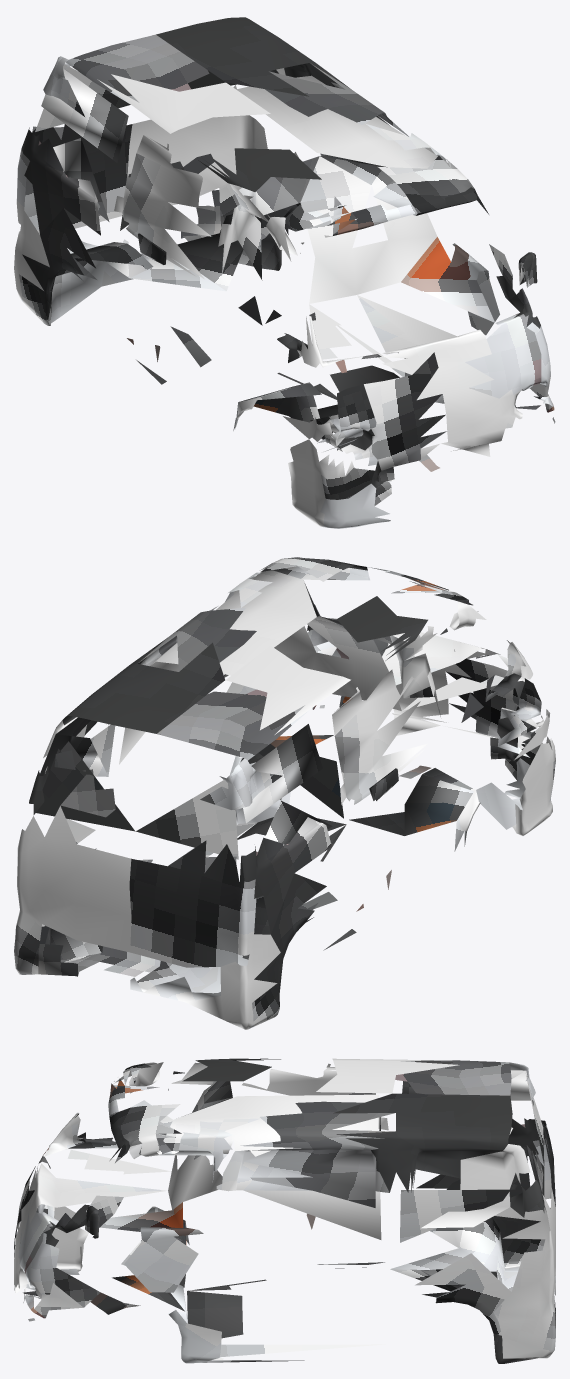
File: cycas_pixel_van.obj
3 renders of one model, top to bottom at view 1: azimuth 30°, elevation 25°; view 2: azimuth 150°, elevation 25°; view 3: azimuth 270°, elevation 25°, orthographic. The views are drawn at different scales.
Parts seen in each view (by area): view 1: body; view 2: body; view 3: body.
Part boxes in pixels (box(x1,y1,x2,y2)): body: box(14, 17, 555, 528); body: box(14, 557, 555, 1029); body: box(14, 1058, 555, 1363).
Size of the model in its own units: 1.67 by 1.56 by 3.4.
